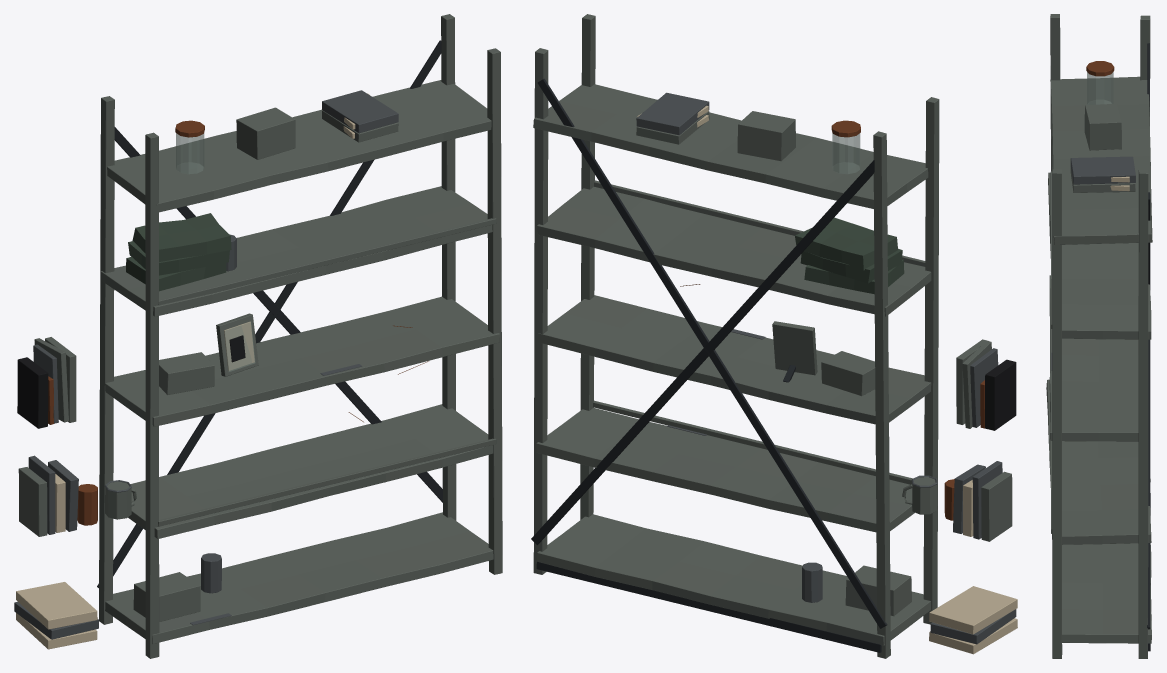
Rendered from shelf_rack.glb.
3 renders of one model, left to right at view 1: azimuth 30°, elevation 25°; view 2: azimuth 150°, elevation 25°; view 3: azimuth 270°, elevation 25°, orthographic. The views are drawn at different scales.
Visible parts, largest first — view 1: shelf_rack; view 2: shelf_rack; view 3: shelf_rack.
Boxes of the visible parts, x1=… form: shelf_rack: x1=14, y1=14, x2=502, y2=658; shelf_rack: x1=531, y1=14, x2=1017, y2=658; shelf_rack: x1=1046, y1=14, x2=1152, y2=658.
Bounding box in the file's own units: 1.62 × 1.8 × 0.357.
